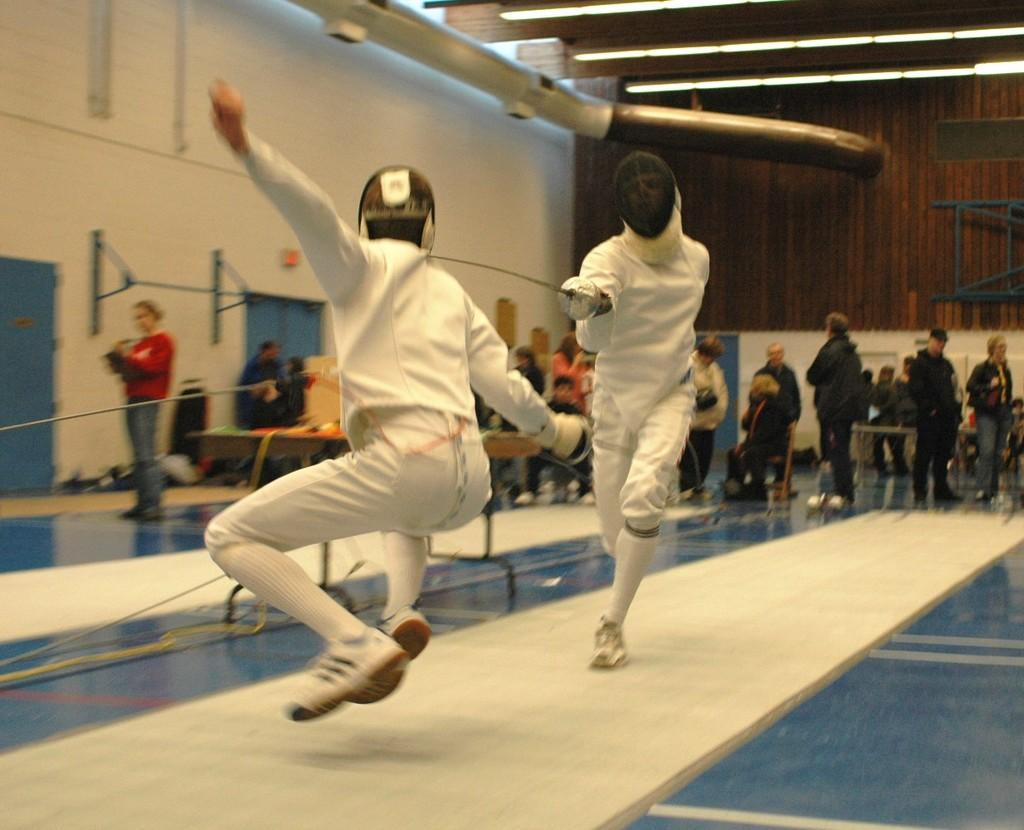knife: (427, 254, 599, 324), (568, 414, 701, 489)
non-violence: (96, 300, 178, 521), (730, 344, 807, 518), (898, 320, 968, 506), (800, 311, 860, 510), (967, 322, 1012, 505), (241, 334, 314, 443), (500, 346, 545, 503), (548, 335, 587, 412), (894, 355, 918, 471), (870, 364, 894, 471), (856, 367, 877, 475)
violence: (210, 75, 710, 724)
